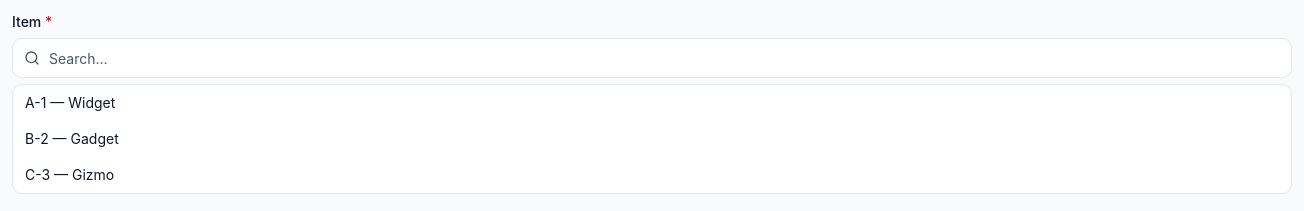
Test: ReferenceInput › filters options client-side as the user types (type-ahead, no refetch)
The width and height of the screenshot is (1304, 211).
Step 1. Type "giz" into the search field → coordinates (652, 58), box left=12, top=38, right=1292, bottom=78
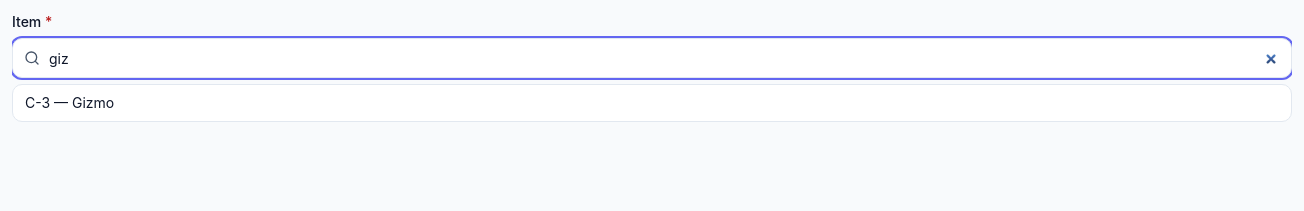
Expected: the button "C-3 — Gizmo" is shown, left=13, top=85, right=1291, bottom=121
Now the button "A-1 — Widget" is gone
